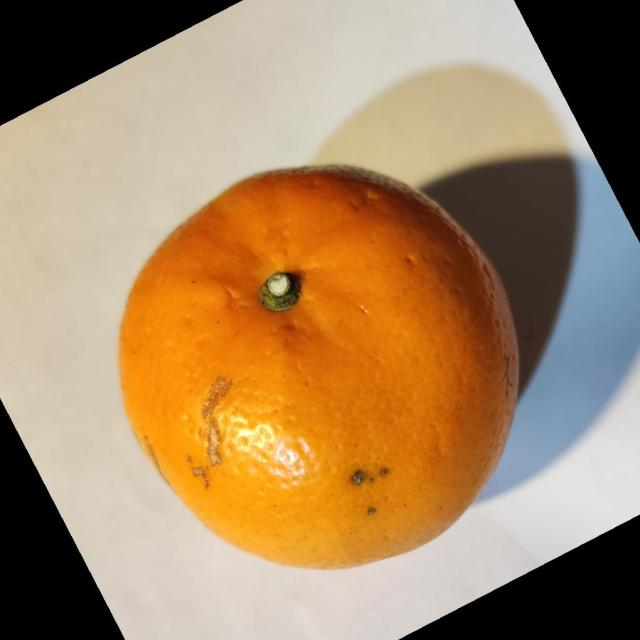fresh orange: (117, 162, 520, 570)
